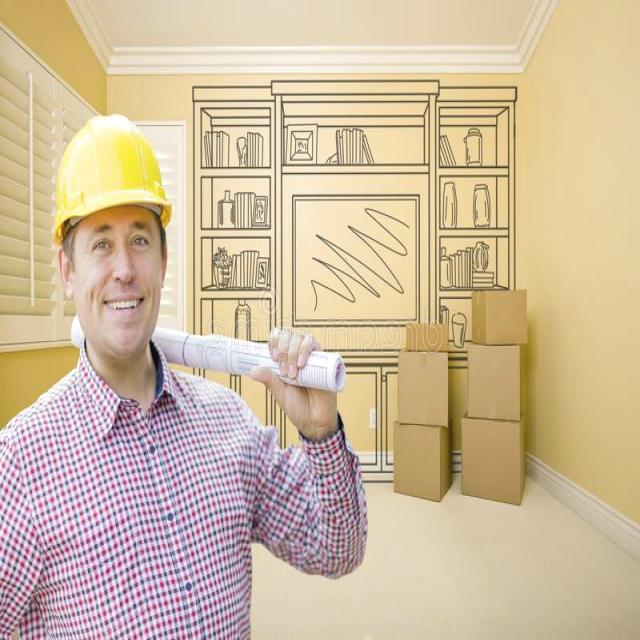face_nomask: (74, 214, 178, 359)
hand_noglove: (260, 321, 354, 449)
head_helmet: (45, 110, 165, 236)
person: (0, 114, 259, 640)
